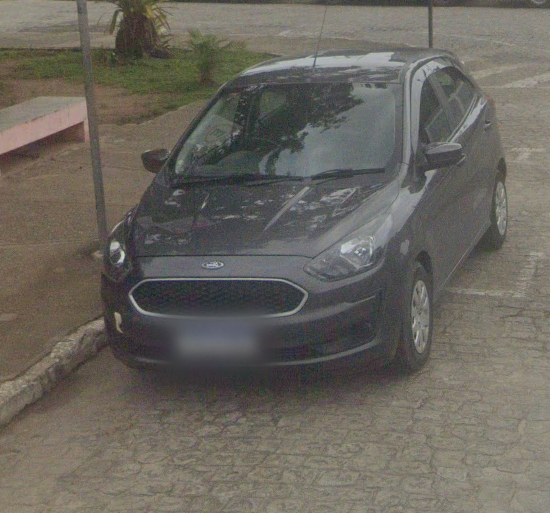car: (97, 5, 508, 386)
